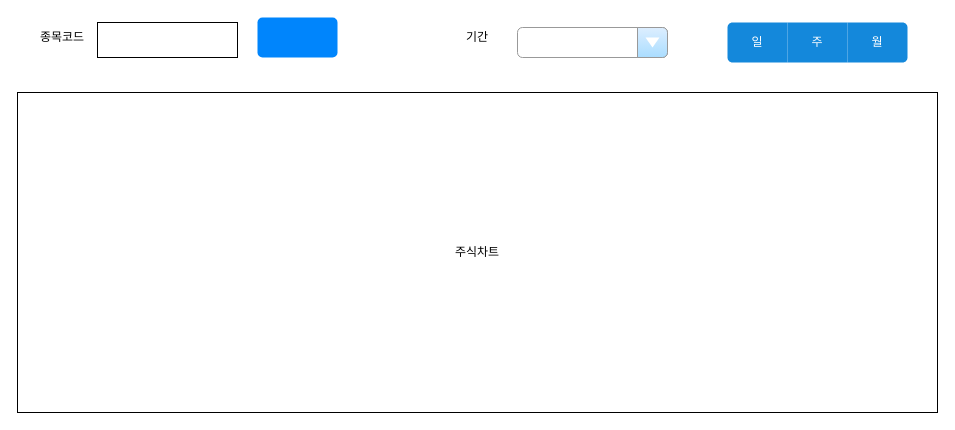
Some shapes in this 955 by 430 pixel diagram are drawn without their labels. Here are the shapes that lost their labels. From the top down, the box of each, then its label:
(257, 17, 337, 57): 종목검색
(516, 26, 668, 58): 3년
